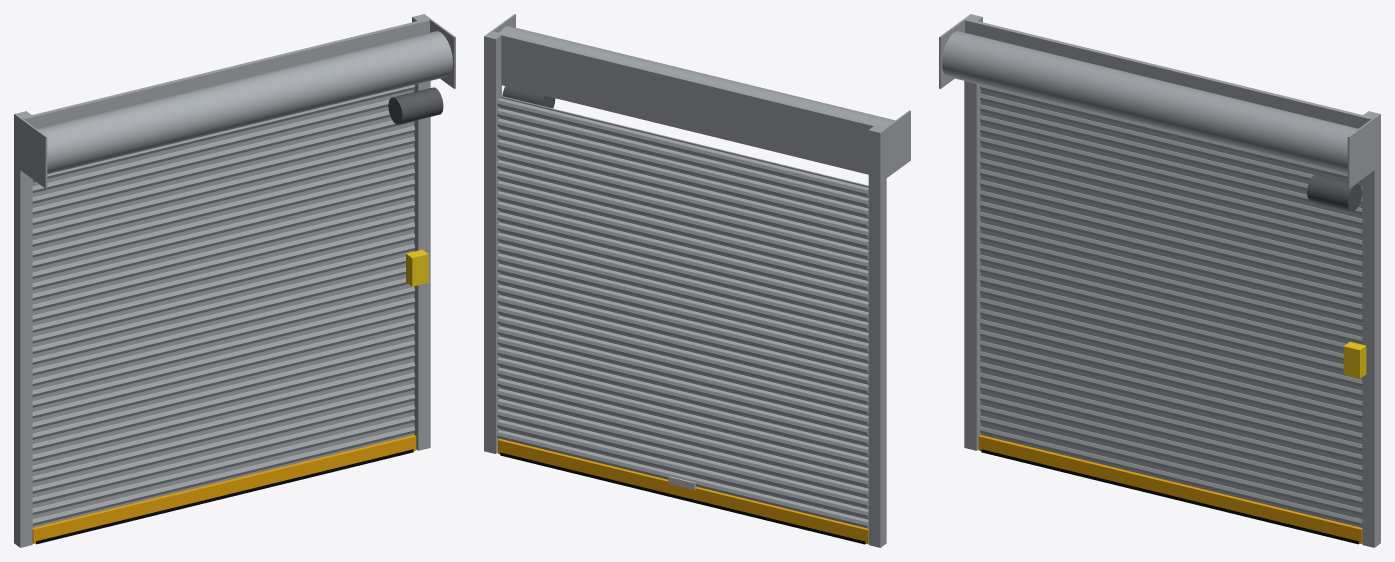
Rendered from opening.door.vehicle_roller.glb.
The picture shows the model from 3 angles, left to right: view 1: azimuth 30°, elevation 25°; view 2: azimuth 150°, elevation 25°; view 3: azimuth 330°, elevation 25°; orthographic projection. The views are drawn at different scales.
Visible parts, largest first — view 1: leaf__steel_galvanised, frame__steel_galvanised, leaf__plant_yellow, ironmongery__plastic_grey, leaf__rubber, ironmongery__plastic_yellow; view 2: leaf__steel_galvanised, frame__steel_galvanised, leaf__plant_yellow, leaf__rubber, ironmongery__plastic_grey; view 3: leaf__steel_galvanised, frame__steel_galvanised, leaf__plant_yellow, leaf__rubber, ironmongery__plastic_grey, ironmongery__plastic_yellow.
Boxes of the visible parts, x1=… form: leaf__steel_galvanised: x1=32, y1=85, x2=415, y2=527; frame__steel_galvanised: x1=14, y1=14, x2=455, y2=547; leaf__plant_yellow: x1=32, y1=435, x2=416, y2=543; ironmongery__plastic_grey: x1=388, y1=87, x2=443, y2=124; leaf__rubber: x1=35, y1=449, x2=413, y2=544; ironmongery__plastic_yellow: x1=406, y1=249, x2=428, y2=286; leaf__steel_galvanised: x1=497, y1=96, x2=868, y2=528; frame__steel_galvanised: x1=484, y1=14, x2=910, y2=547; leaf__plant_yellow: x1=498, y1=439, x2=868, y2=543; leaf__rubber: x1=500, y1=452, x2=865, y2=544; ironmongery__plastic_grey: x1=502, y1=86, x2=555, y2=108; leaf__steel_galvanised: x1=979, y1=85, x2=1362, y2=527; frame__steel_galvanised: x1=939, y1=14, x2=1380, y2=547; leaf__plant_yellow: x1=978, y1=435, x2=1362, y2=543; leaf__rubber: x1=981, y1=449, x2=1359, y2=544; ironmongery__plastic_grey: x1=1307, y1=174, x2=1362, y2=211; ironmongery__plastic_yellow: x1=1343, y1=341, x2=1366, y2=378.
Size of the model in its own units: 3 by 3 by 0.41.
